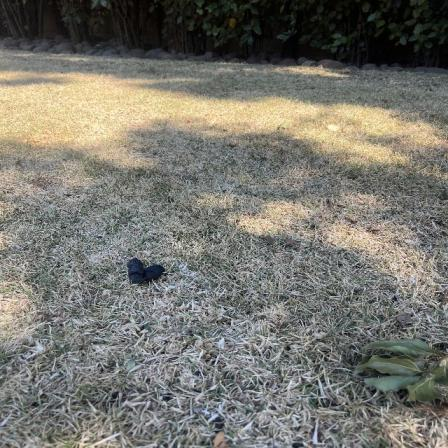dog-poop: (124, 254, 165, 288)
